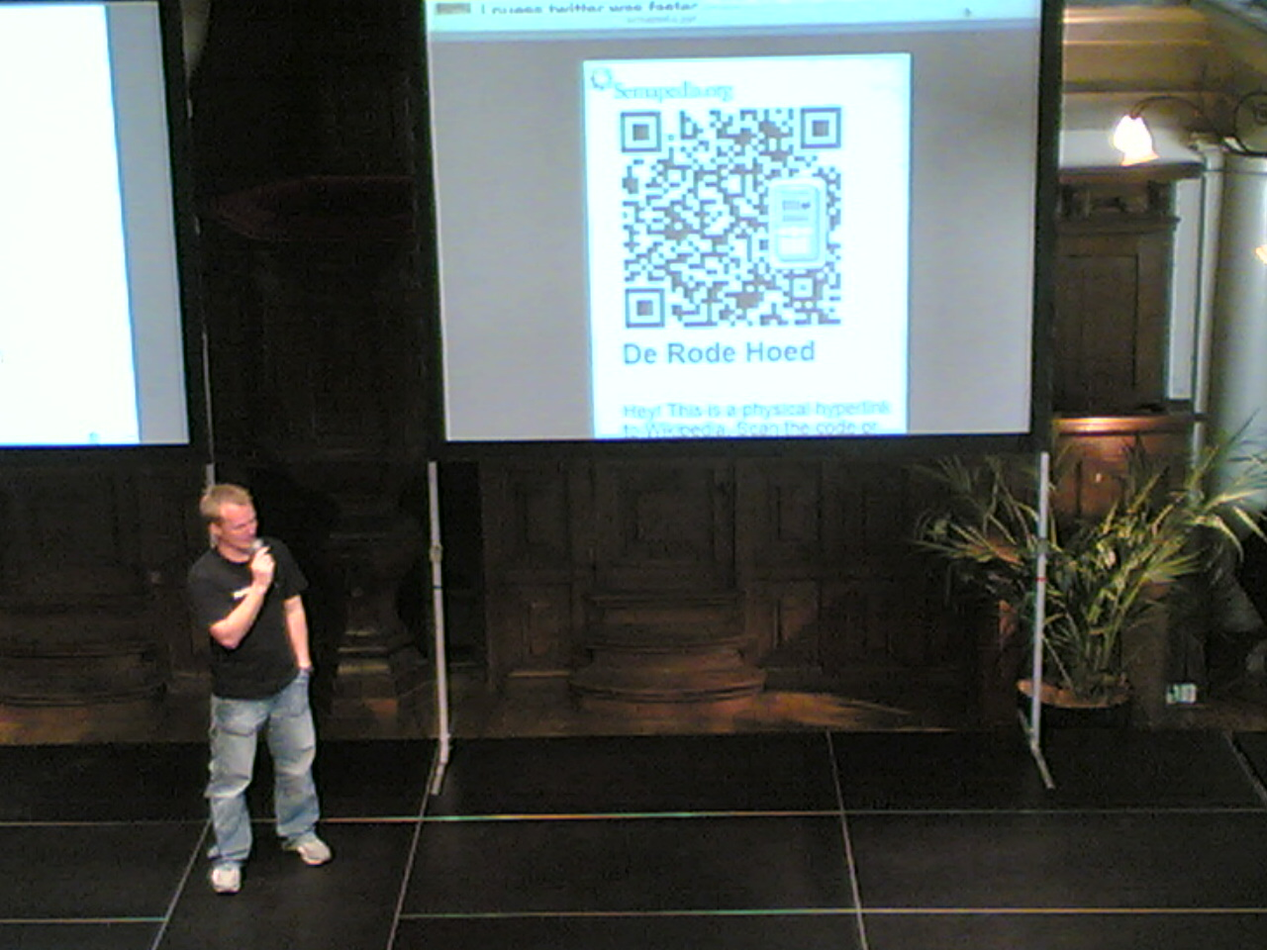QR-CODE: (620, 107, 840, 328)
